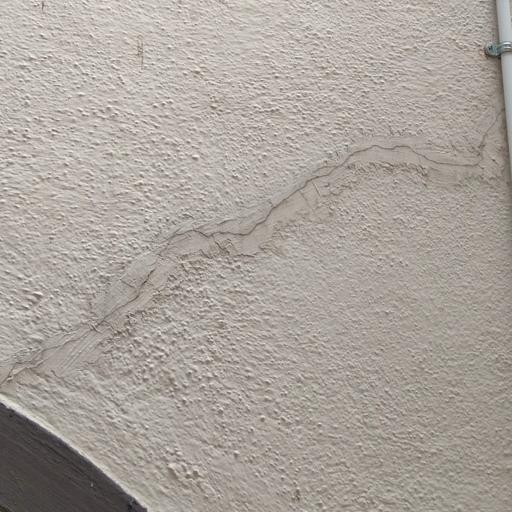minor_crack: (44, 107, 512, 359)
